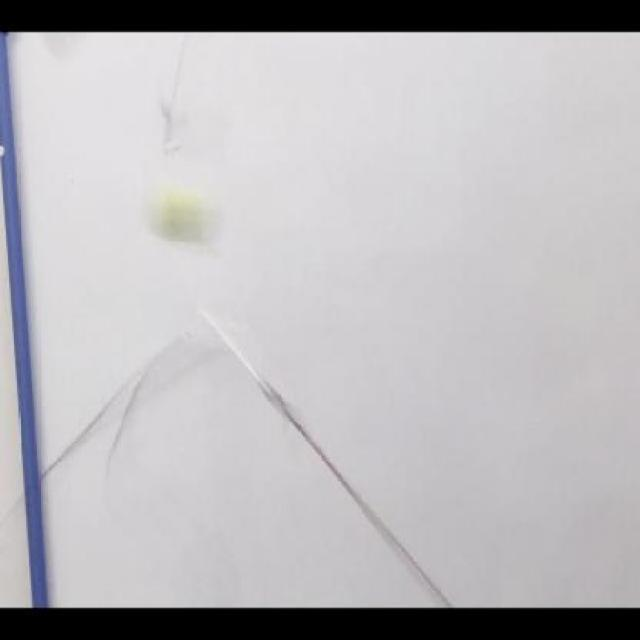baseball: (146, 176, 219, 247)
